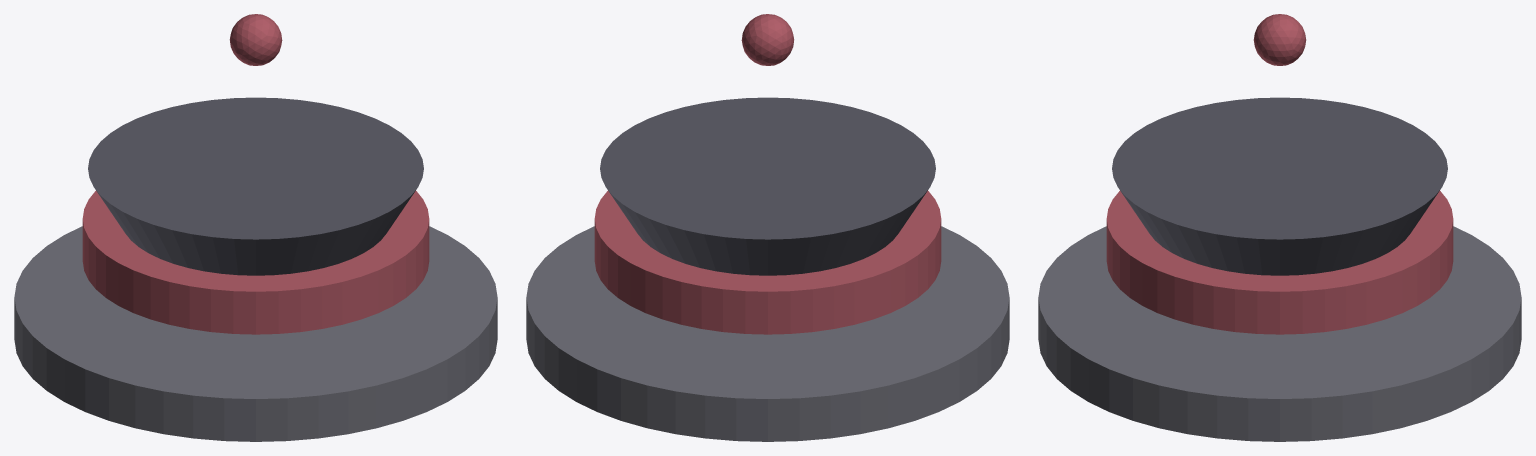
Rendered from Hat.glb.
3 renders of one model, left to right at view 1: azimuth 30°, elevation 25°; view 2: azimuth 150°, elevation 25°; view 3: azimuth 270°, elevation 25°, orthographic.
Parts seen in each view (by area): view 1: HatPart_0, HatPart_1, HatPart_2, HatPart_3; view 2: HatPart_0, HatPart_1, HatPart_2, HatPart_3; view 3: HatPart_0, HatPart_1, HatPart_2, HatPart_3.
Part boxes in pixels (x1=…): HatPart_0: x1=14, y1=226, x2=497, y2=441; HatPart_1: x1=88, y1=97, x2=423, y2=275; HatPart_2: x1=82, y1=191, x2=429, y2=334; HatPart_3: x1=229, y1=14, x2=282, y2=65; HatPart_0: x1=526, y1=226, x2=1009, y2=441; HatPart_1: x1=600, y1=97, x2=935, y2=275; HatPart_2: x1=594, y1=191, x2=941, y2=334; HatPart_3: x1=741, y1=14, x2=794, y2=65; HatPart_0: x1=1038, y1=226, x2=1521, y2=441; HatPart_1: x1=1112, y1=97, x2=1447, y2=275; HatPart_2: x1=1106, y1=191, x2=1453, y2=334; HatPart_3: x1=1253, y1=14, x2=1306, y2=65.
Bounding box in the file's own units: 0.46 × 0.43 × 0.46.
